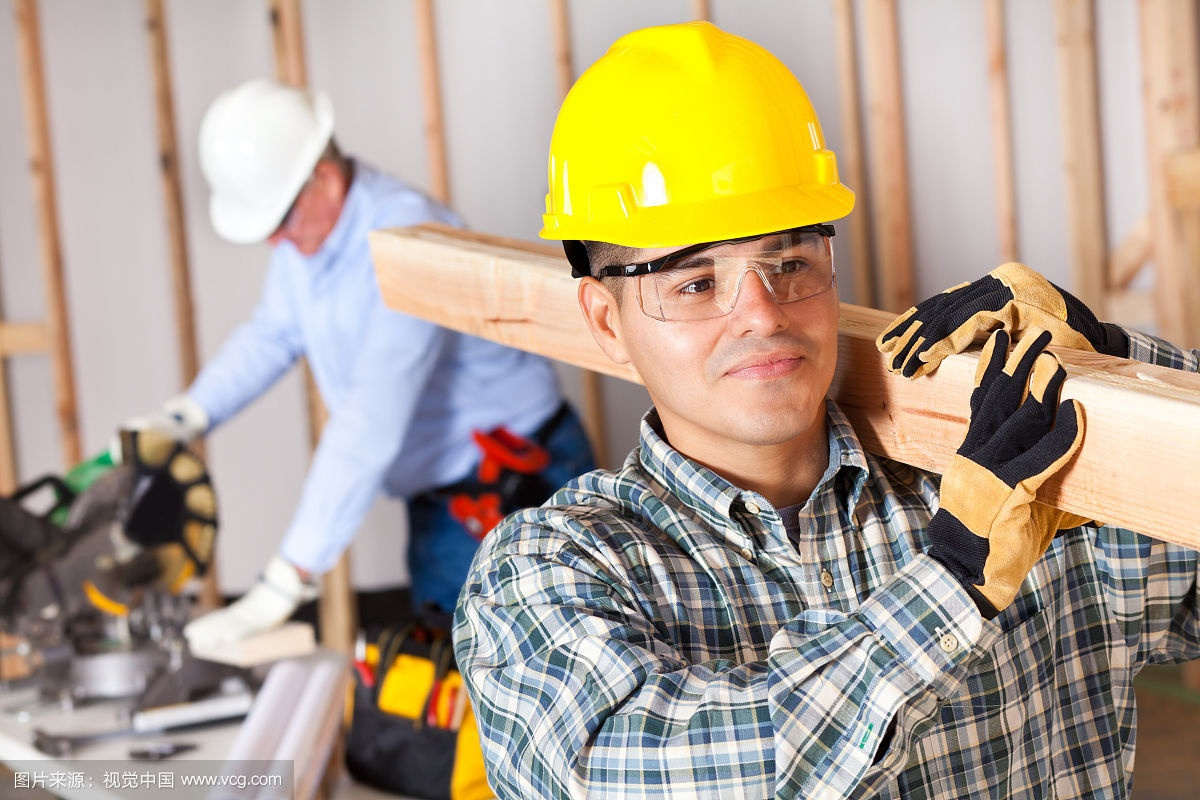white: (192, 74, 355, 262)
yellow: (545, 21, 850, 446)
